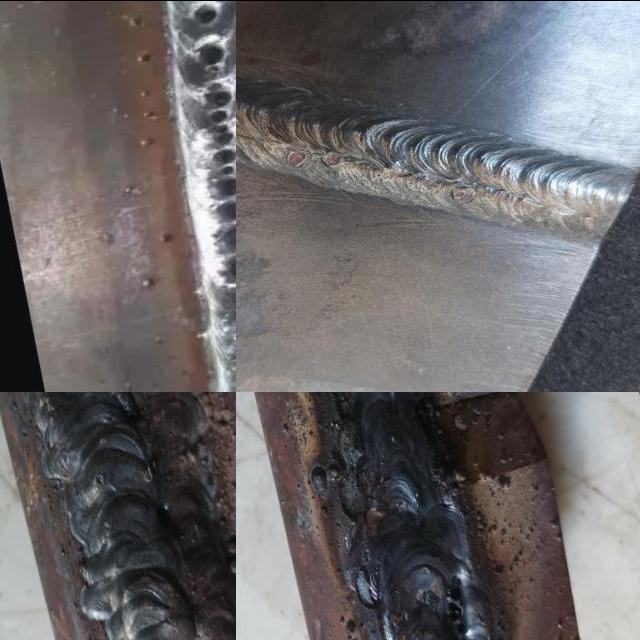defect: (201, 76, 236, 281), (445, 569, 469, 640), (193, 39, 234, 69), (192, 1, 224, 25), (283, 147, 310, 169), (322, 149, 346, 169), (417, 175, 441, 192), (452, 187, 476, 204), (92, 468, 110, 487), (368, 168, 388, 182)
